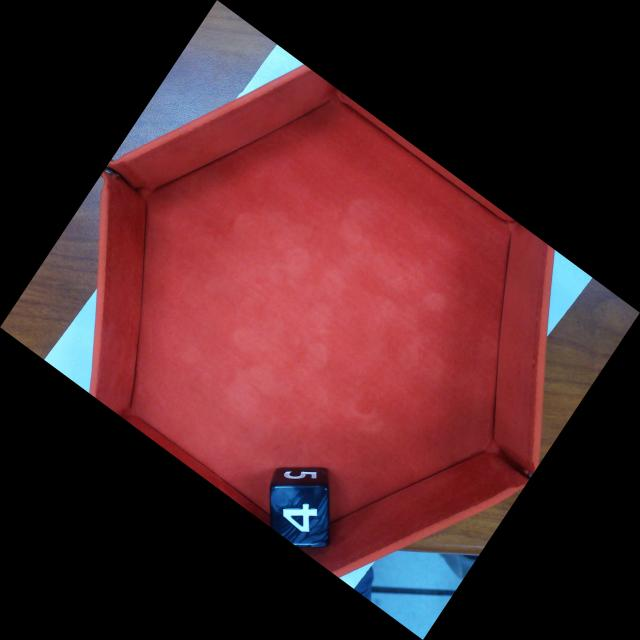dice: (270, 485, 330, 547)
